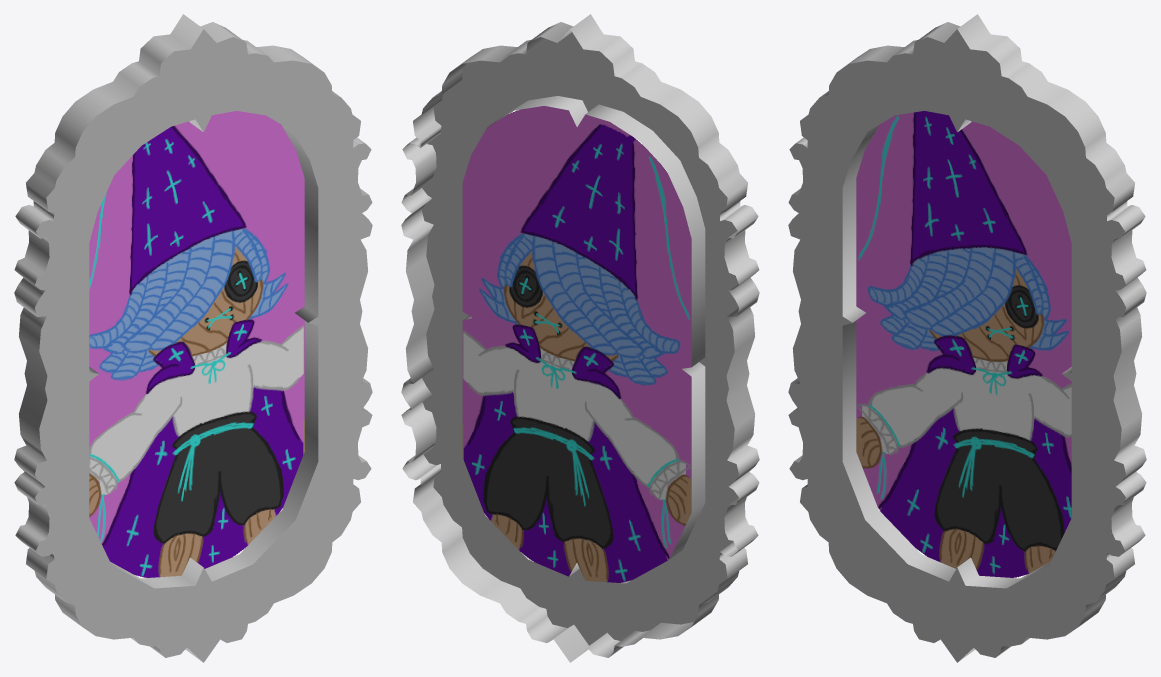
The model's file is Frame03.fbx.
3 renders of one model, left to right at view 1: azimuth 30°, elevation 25°; view 2: azimuth 150°, elevation 25°; view 3: azimuth 330°, elevation 25°, orthographic.
Visible parts, largest first — view 1: painting03, painting03.001; view 2: painting03.001, painting03; view 3: painting03, painting03.001.
Part boxes in pixels (left/top/right/bottom): painting03: left=14, top=14, right=372, bottom=662; painting03.001: left=89, top=111, right=304, bottom=577; painting03.001: left=462, top=106, right=691, bottom=582; painting03: left=401, top=14, right=759, bottom=662; painting03: left=788, top=14, right=1146, bottom=662; painting03.001: left=856, top=111, right=1071, bottom=577.
Size of the model in its own units: 113 by 203 by 11.91.
